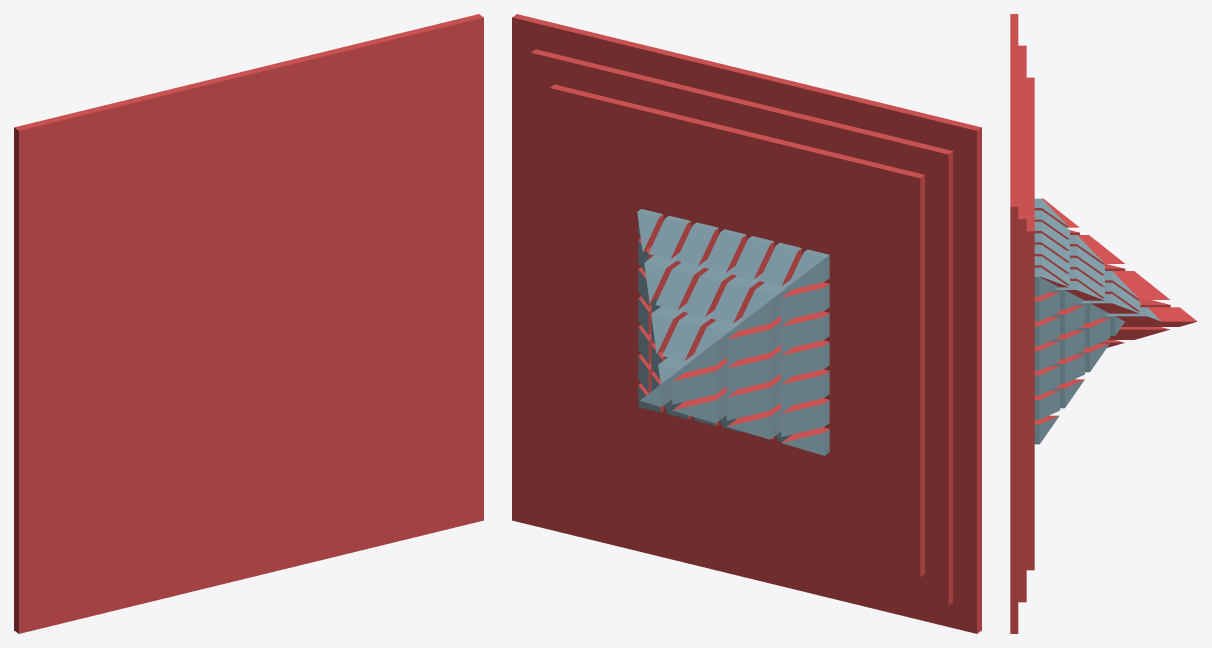
Rendered from rotated.gltf.
3 renders of one model, left to right at view 1: azimuth 30°, elevation 25°; view 2: azimuth 150°, elevation 25°; view 3: azimuth 270°, elevation 25°, orthographic. The views are drawn at different scales.
Visible parts, largest first — view 1: rotated; view 2: rotated; view 3: rotated.
Boxes of the visible parts, x1,y1,x2,y2 form: rotated: (14, 14, 483, 633); rotated: (512, 14, 981, 633); rotated: (1010, 14, 1197, 633).
Bounding box in the file's own units: 8.39 × 8.67 × 3.45.
